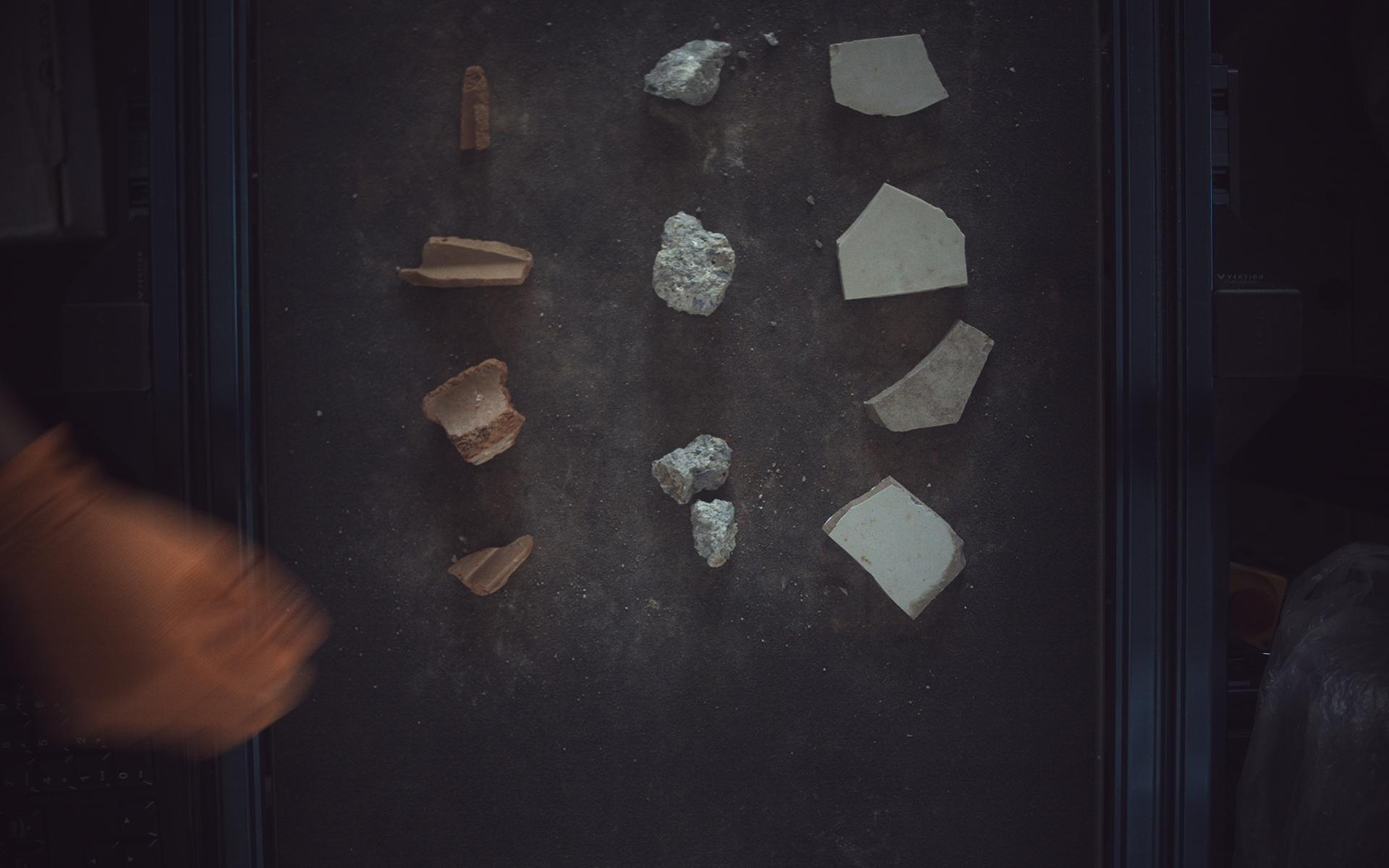brick: (422, 358, 525, 465), (398, 235, 532, 287), (448, 536, 534, 596), (459, 64, 490, 150)
concrete: (654, 210, 736, 315), (645, 38, 732, 105), (653, 435, 733, 505), (692, 500, 739, 568)
tile: (824, 477, 968, 620), (838, 182, 969, 299), (865, 320, 996, 432), (832, 33, 951, 115)
